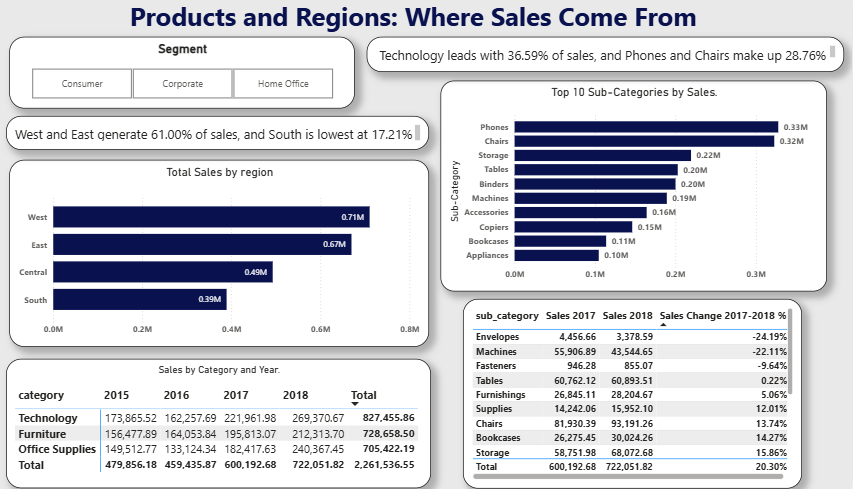

The page's visual inventory and layout, read from the dashboard file:
{"tool":"powerbi","page":{"name":"2. Products and Regions","canvas":[1280,720],"ordinal":1},"visuals":[{"type":"textbox","box":[12.5,0,1256.2,60.9],"z":0},{"type":"clusteredBarChart","fields":{"Category":["superstore_clean.region"],"Y":["_Measures.Total Sales"]},"box":[51.5,240.3,611.7,273.1],"z":1000},{"type":"clusteredBarChart","title":"Top 10 Sub-Categories by Sales.","fields":{"Category":["superstore_clean.sub_category"],"Y":["_Measures.Total Sales"]},"box":[680.4,124.8,563.3,307.4],"z":2000},{"type":"pivotTable","title":"Sales by Category and Year.","fields":{"Rows":["superstore_clean.category"],"Columns":["superstore_clean.order_year"],"Values":["_Measures.Total Sales"]},"box":[46.8,530.6,619.5,188.8],"z":3000},{"type":"tableEx","fields":{"Values":["superstore_clean.sub_category","_Measures.Sales 2017","_Measures.Sales 2018","_Measures.Sales Change 2017-2018 %"]},"box":[713.1,443.2,494.7,276.2],"z":4000},{"type":"actionButton","box":[0,0,100,40],"z":5000},{"type":"slicer","title":"Segment","fields":{"Values":["superstore_clean.segment"]},"box":[51.5,60.9,504,104.5],"z":6000},{"type":"textbox","box":[46.8,176.3,616.4,49.9],"z":7000},{"type":"textbox","box":[572.7,60.9,696,51.5],"z":8000}]}

Visuals, with their boxes in screenshot pixels (x1, y1, x2, y2), scaled from the page's 1280x720 canvas onto the 853x489 screenshot:
textbox: <box>8,0,845,41</box>
clusteredBarChart - superstore_clean.region x _Measures.Total Sales: <box>34,163,442,349</box>
"Top 10 Sub-Categories by Sales." clusteredBarChart: <box>453,85,829,294</box>
"Sales by Category and Year." pivotTable: <box>31,360,444,488</box>
tableEx - superstore_clean.sub_category x _Measures.Sales 2017: <box>475,301,805,488</box>
actionButton: <box>0,0,67,27</box>
"Segment" slicer: <box>34,41,370,112</box>
textbox: <box>31,120,442,154</box>
textbox: <box>382,41,845,76</box>
